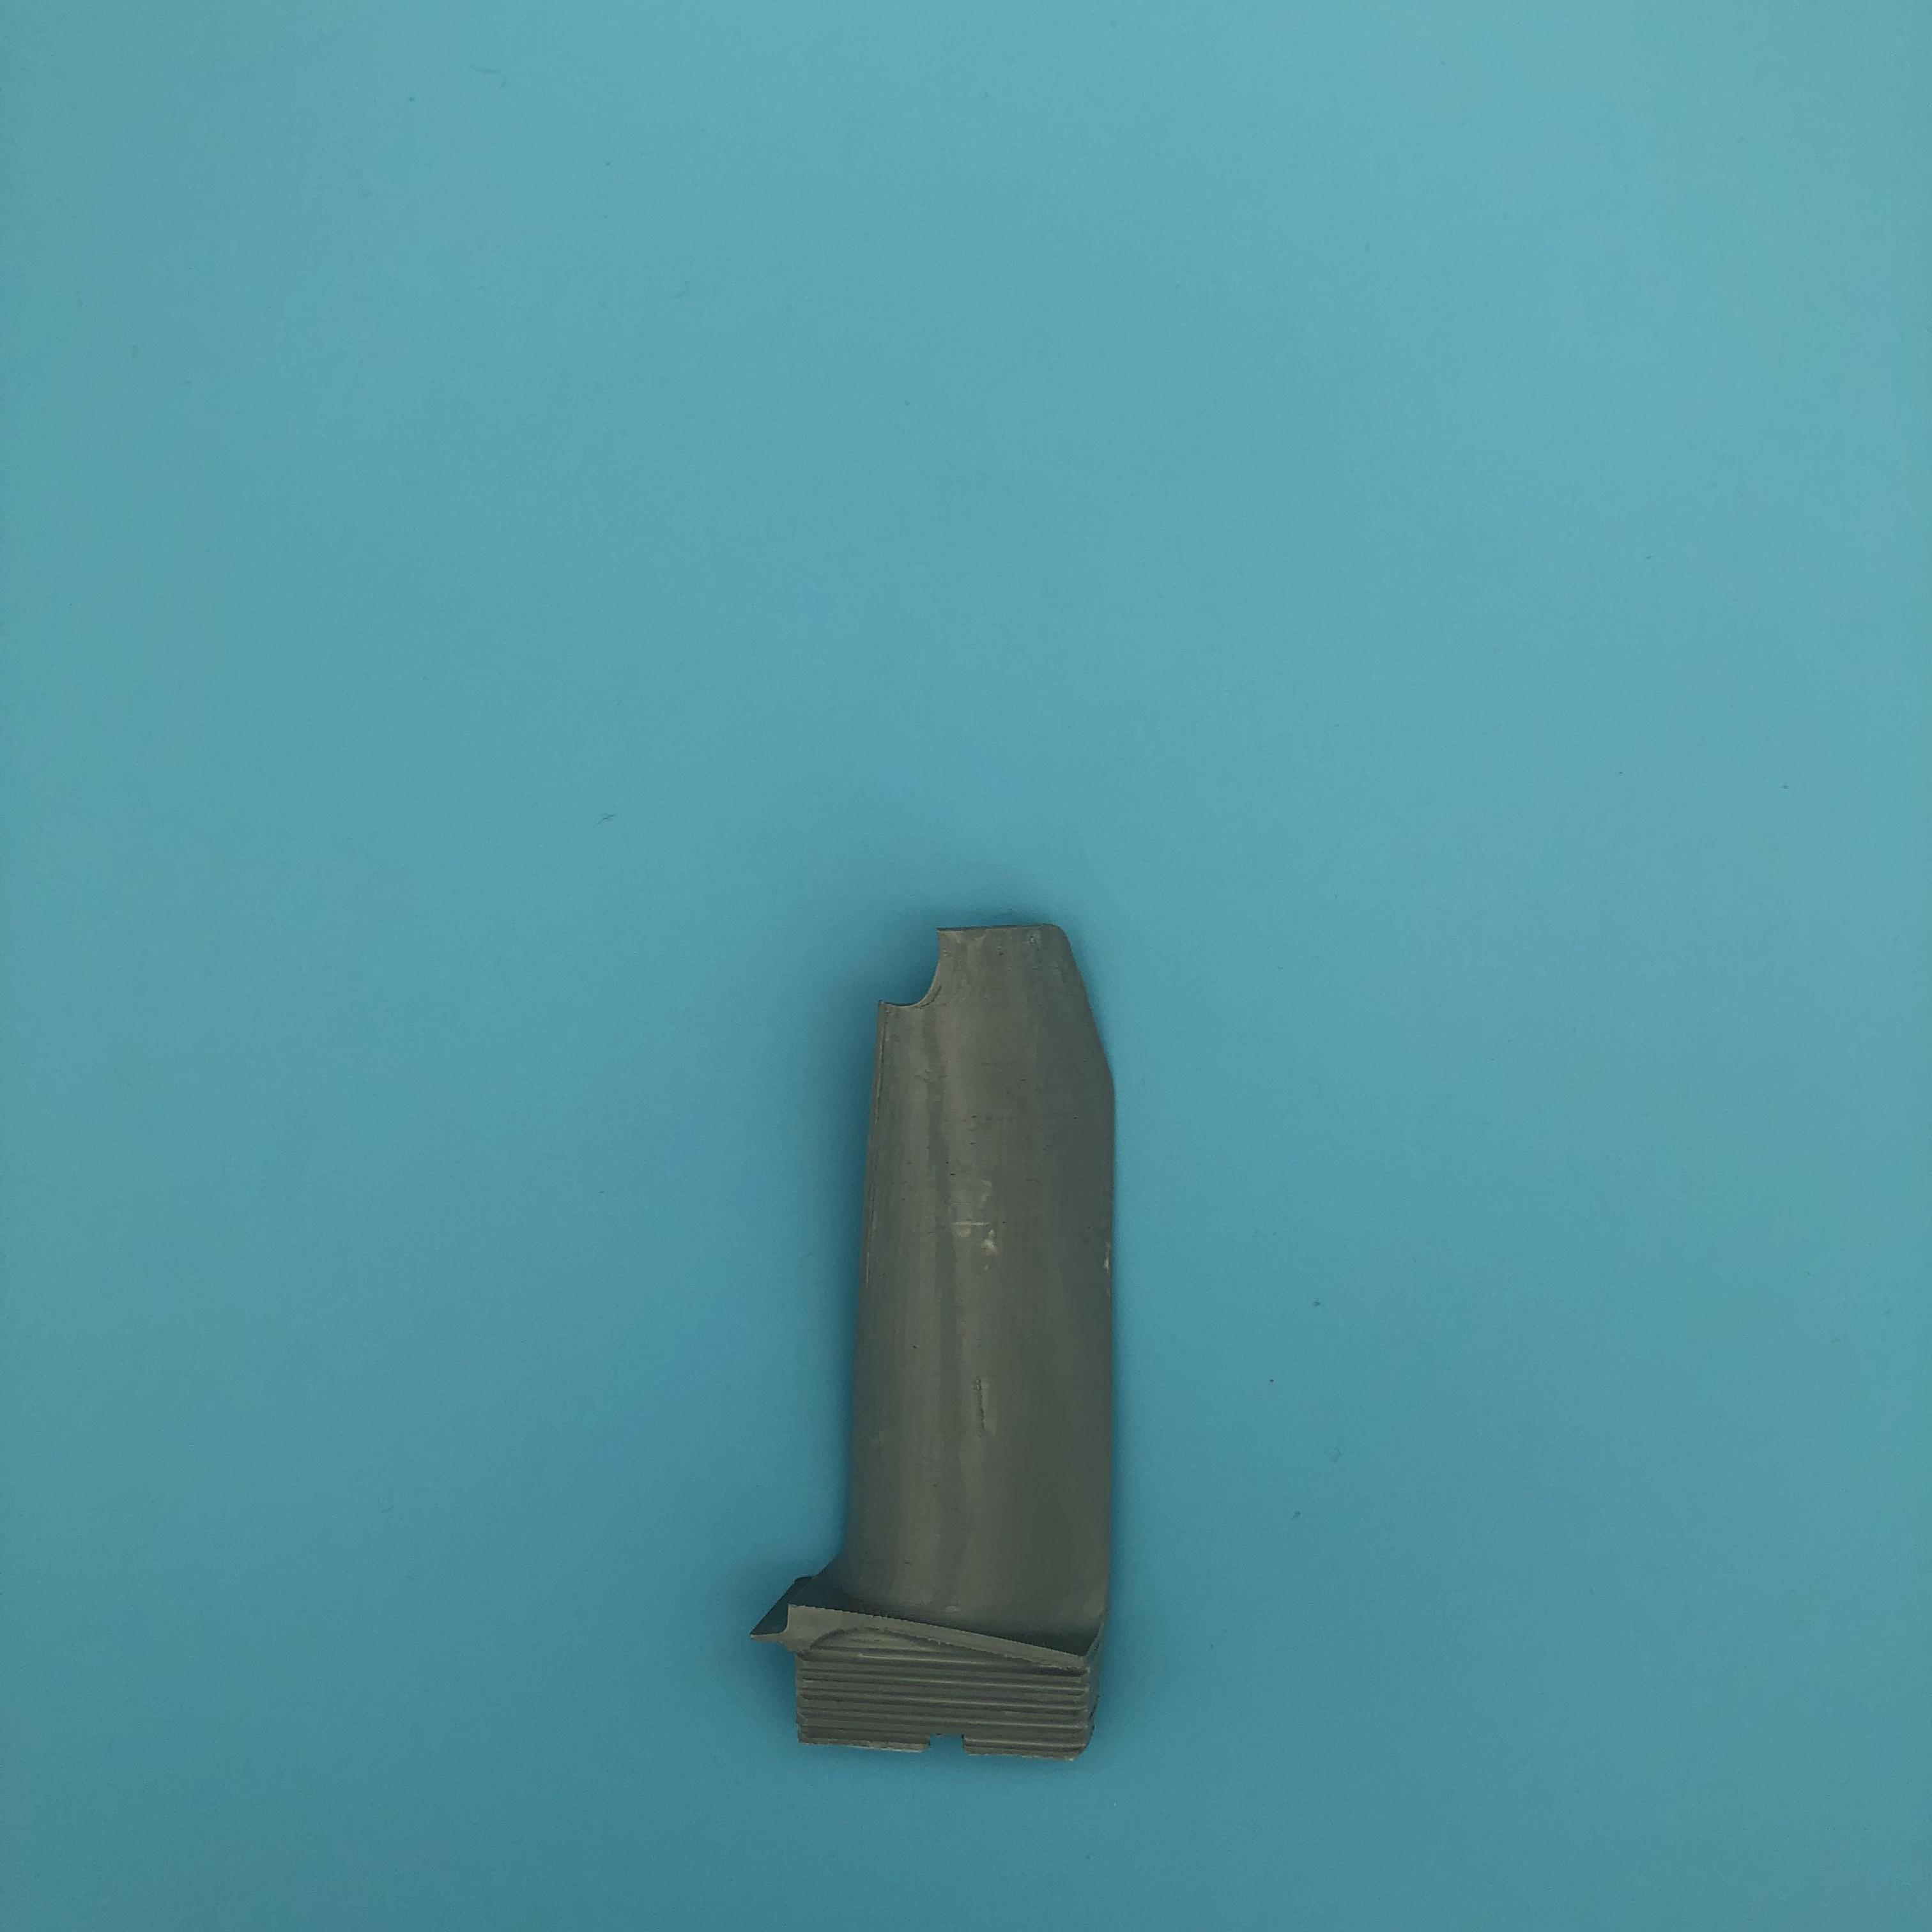fracture: (869, 927, 978, 1030)
